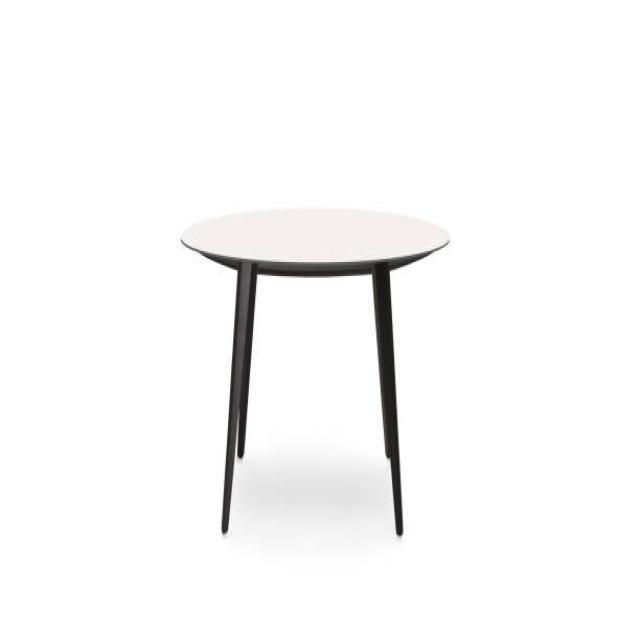table: (179, 204, 451, 538)
